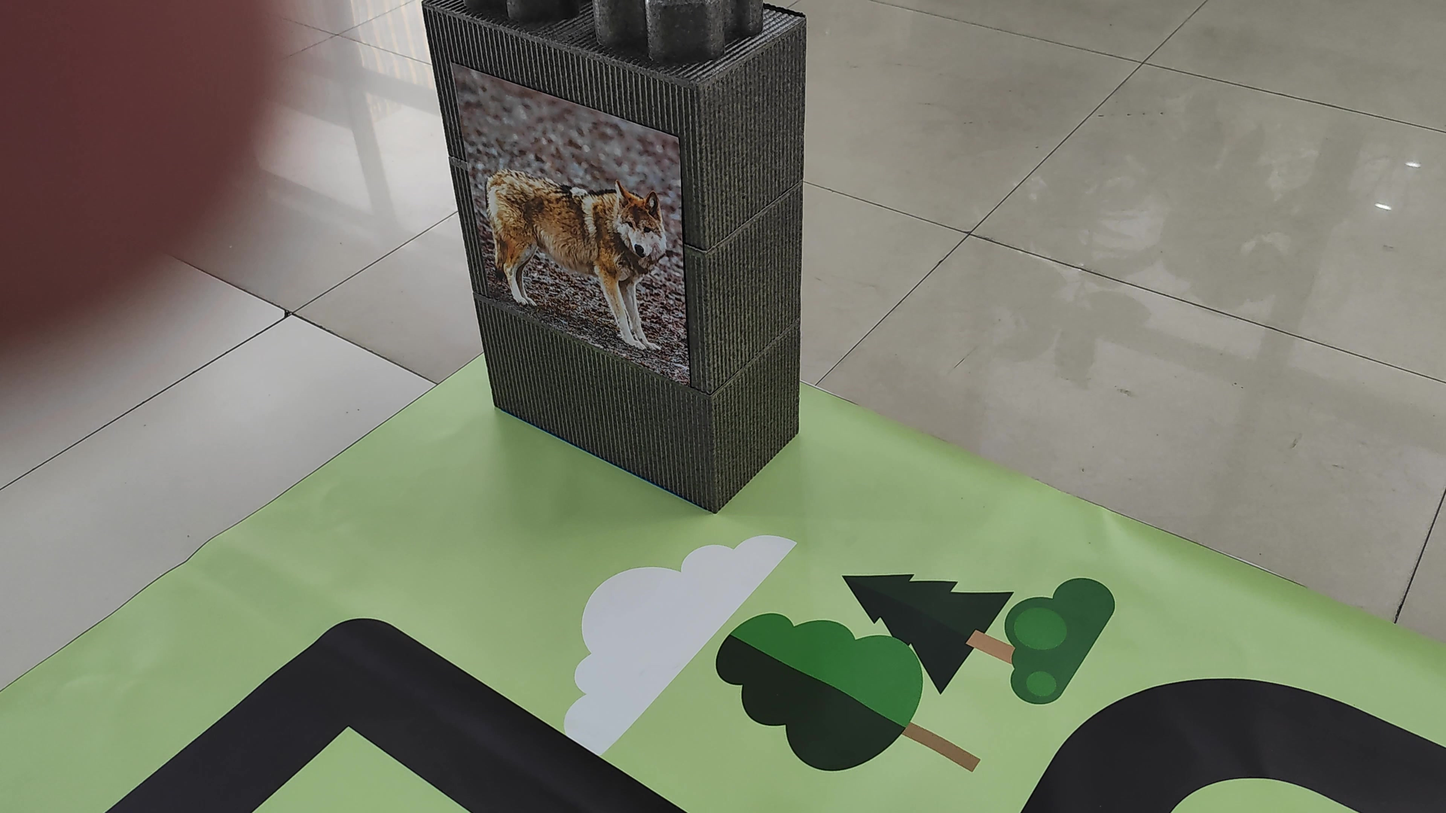wolf: (458, 141, 691, 385)
